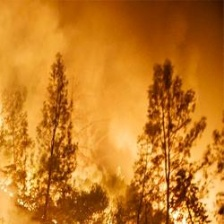fire: (1, 109, 224, 224)
